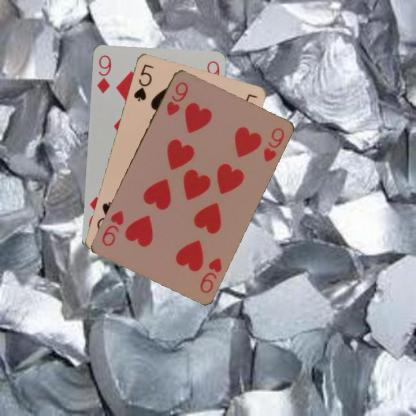5s: (130, 62, 155, 102)
9d: (94, 52, 112, 94)
9h: (197, 254, 223, 294), (163, 78, 189, 116)
